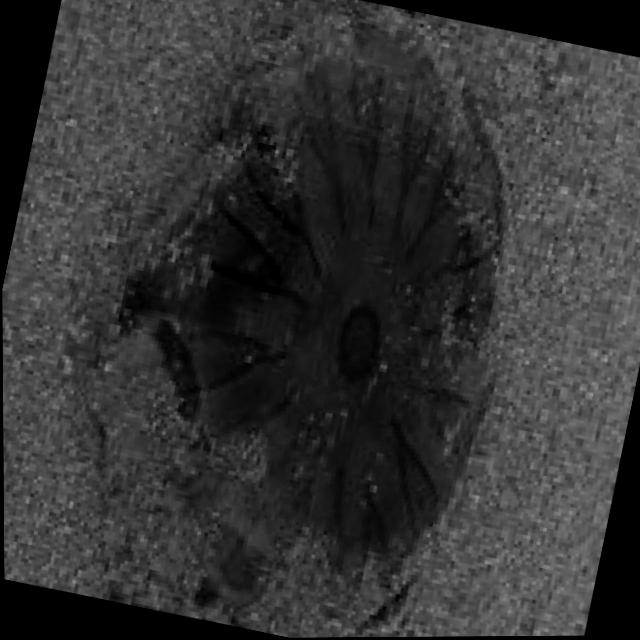Jellyfish: (60, 0, 572, 640)
